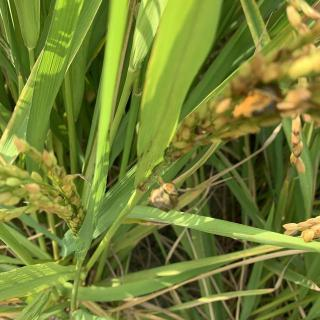Gosong-Palsu: (148, 181, 180, 213)
